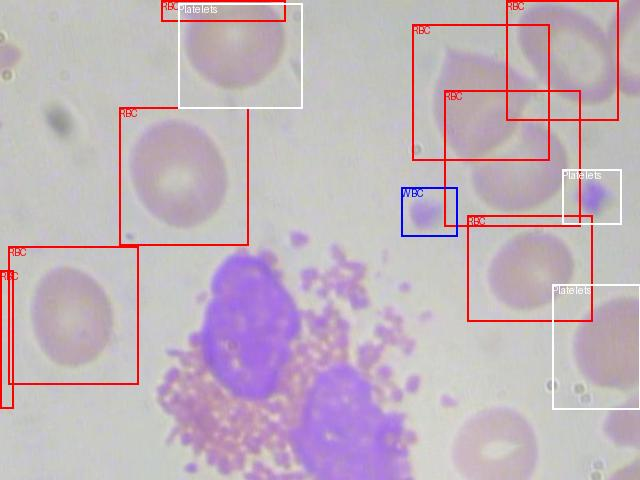Platelets: (178, 3, 302, 108), (552, 284, 640, 409), (562, 169, 621, 224)
RBC: (412, 24, 549, 160), (444, 90, 580, 226), (8, 246, 138, 384), (119, 107, 248, 245), (506, 0, 618, 120), (467, 215, 592, 321), (161, 0, 285, 21), (0, 270, 13, 408)
WBC: (401, 187, 457, 236)
